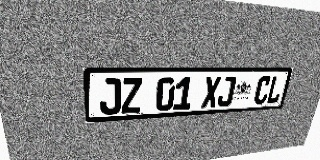0: (155, 77, 176, 111)
1: (173, 77, 194, 110)
C: (253, 76, 272, 105)
J: (99, 78, 121, 115), (216, 76, 237, 107)
L: (266, 76, 285, 104)
X: (201, 77, 221, 108)
Z: (121, 78, 142, 114)
